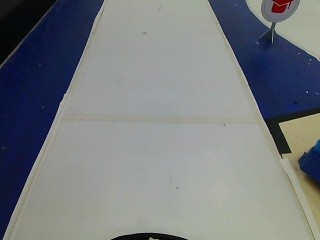school: (257, 0, 298, 21)
